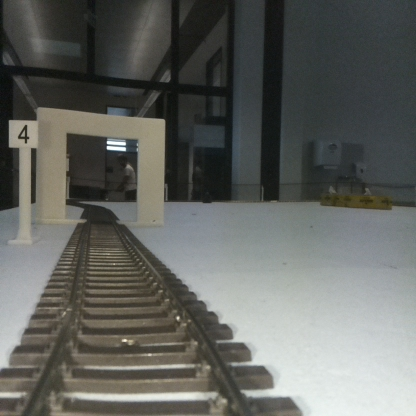white-info-4: (9, 119, 37, 242)
